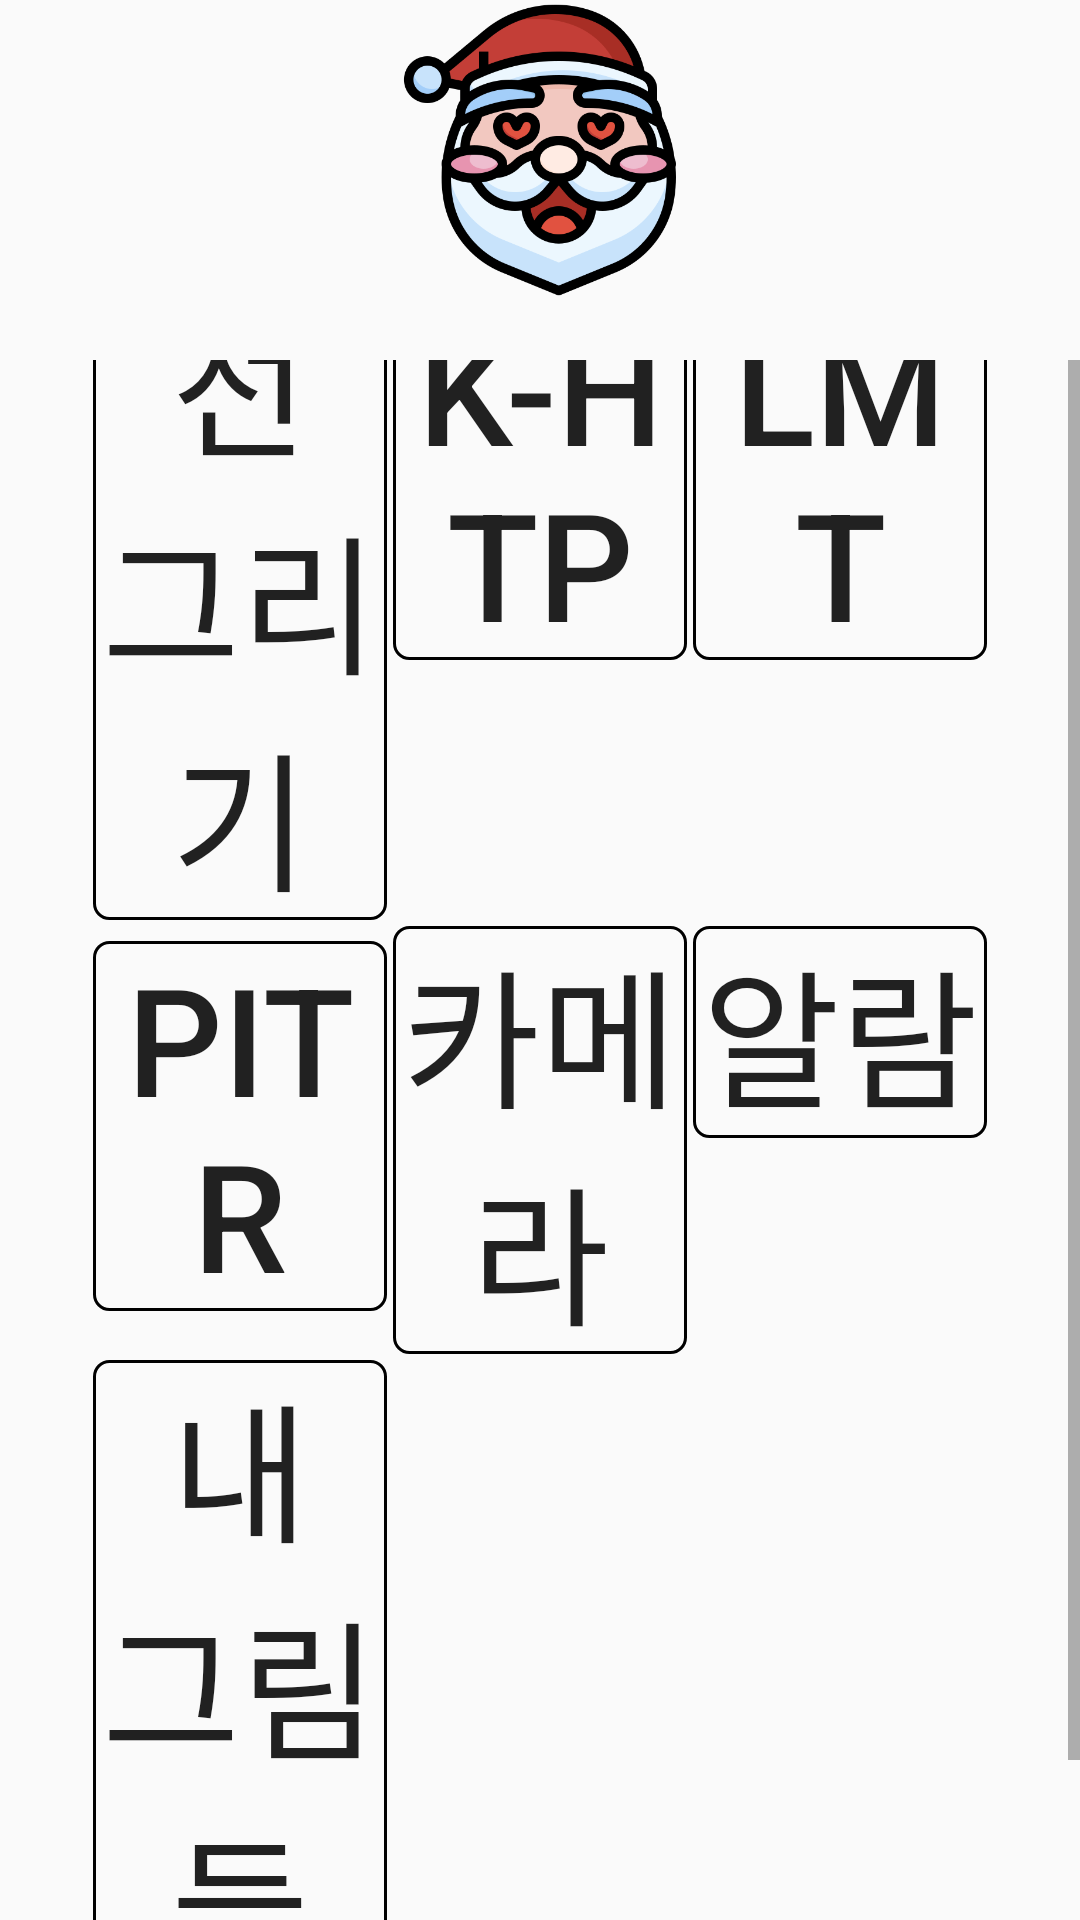

Screen size 1080×1920. Icon name, then its center in pixels as (x,y):
santa good: (540,150)
